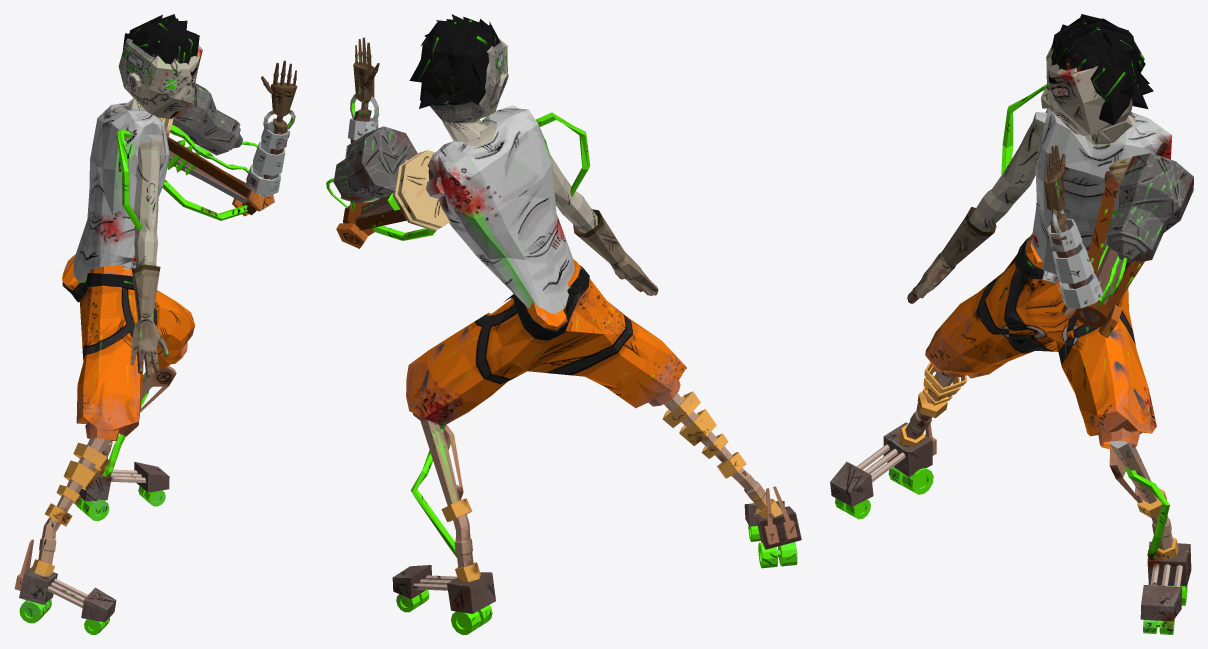
Rendered from CyborgFINALAnimation_000048.obj.
The picture shows the model from 3 angles, left to right: view 1: azimuth 30°, elevation 25°; view 2: azimuth 150°, elevation 25°; view 3: azimuth 270°, elevation 25°; orthographic projection. The views are drawn at different scales.
Visible parts, largest first — view 1: CyborgMesh_Cube.002; view 2: CyborgMesh_Cube.002; view 3: CyborgMesh_Cube.002.
Part boxes in pixels (bbox=[...]): CyborgMesh_Cube.002: bbox=[14, 14, 297, 634]; CyborgMesh_Cube.002: bbox=[326, 14, 801, 634]; CyborgMesh_Cube.002: bbox=[830, 14, 1193, 634].
Size of the model in its own units: 6.02 by 8.66 by 4.7.
